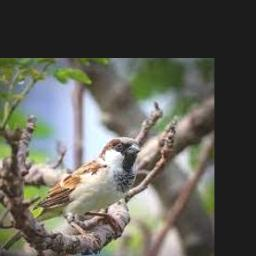Sparrow: (33, 136, 140, 244)
